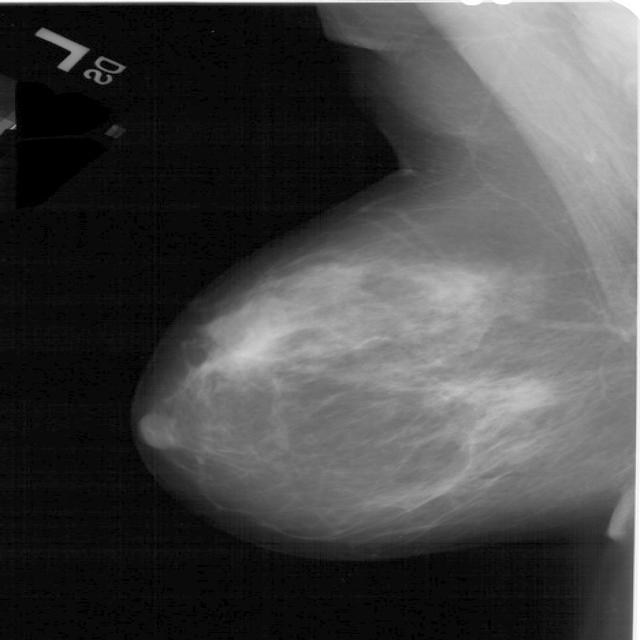tumour: (439, 376, 551, 422)
